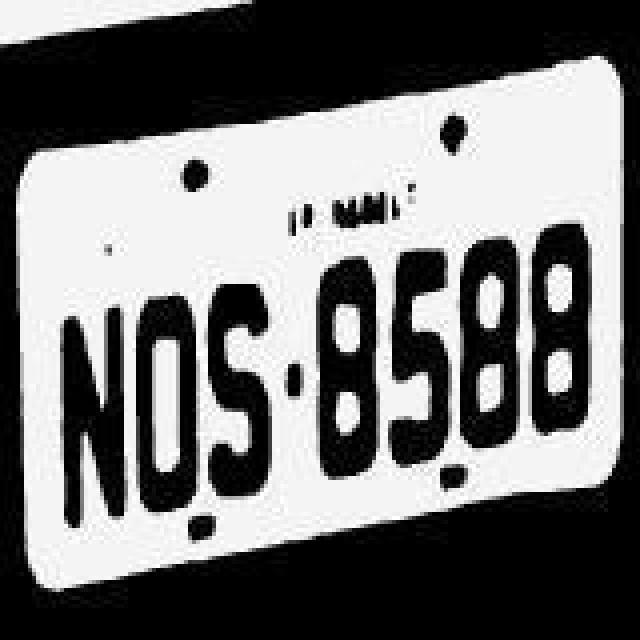5: (380, 250, 452, 470)
8: (304, 254, 384, 490), (520, 216, 600, 440), (452, 230, 524, 458)
N: (54, 288, 130, 528)
O: (130, 288, 206, 512)
S: (204, 276, 284, 508)
